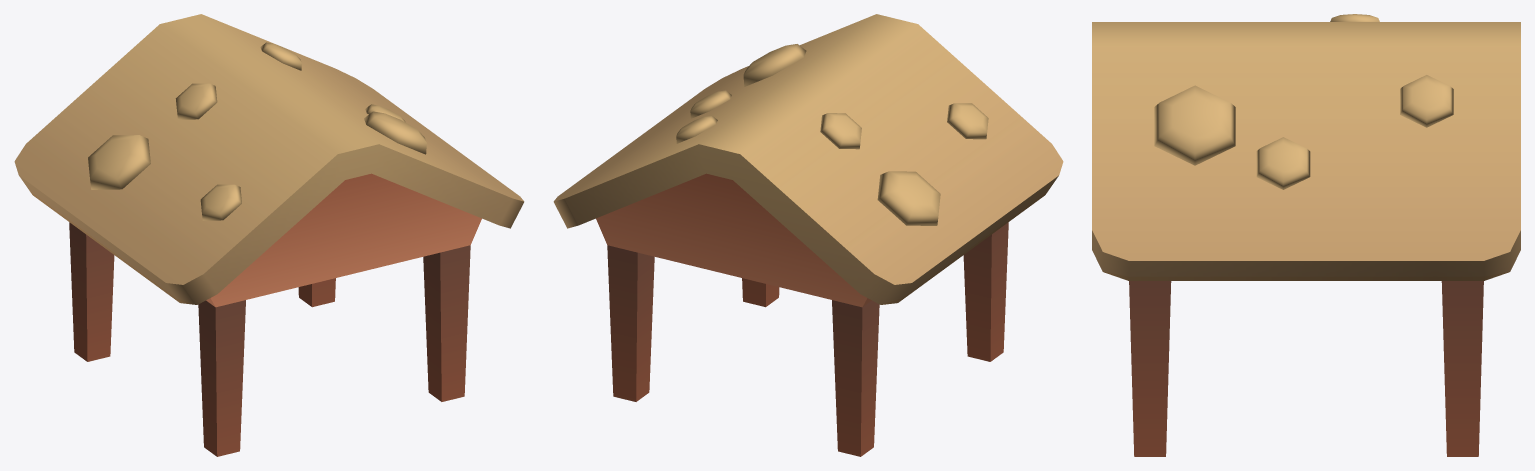
The model's file is mf_building-roof.glb.
The picture shows the model from 3 angles, left to right: view 1: azimuth 30°, elevation 25°; view 2: azimuth 150°, elevation 25°; view 3: azimuth 270°, elevation 25°; orthographic projection. The views are drawn at different scales.
Parts seen in each view (by area): view 1: building-roof; view 2: building-roof; view 3: building-roof.
Boxes of the visible parts, <box> form: building-roof: <box>14,14,524,456</box>; building-roof: <box>553,14,1063,456</box>; building-roof: <box>1092,14,1520,456</box>.
Bounding box in the file's own units: 1.34 × 1.05 × 1.17.
Materials: 1 (1 with a texture image).
